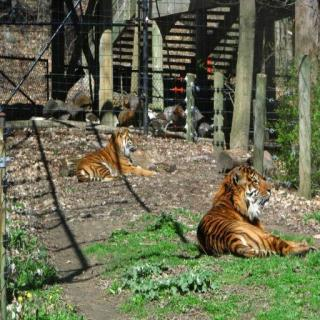Tiger: (180, 146, 312, 282), (56, 117, 150, 196)
